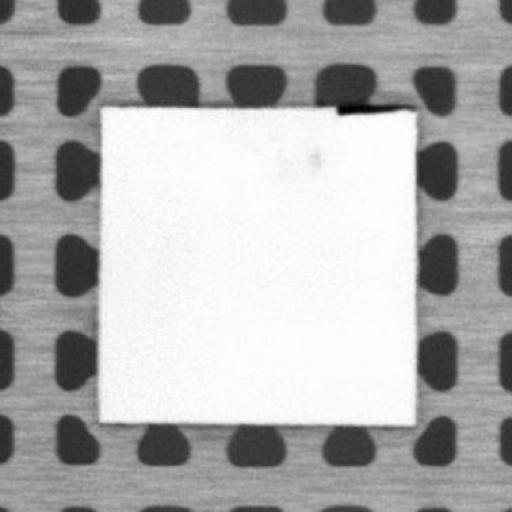DIE_BROKEN: (334, 99, 410, 116)
